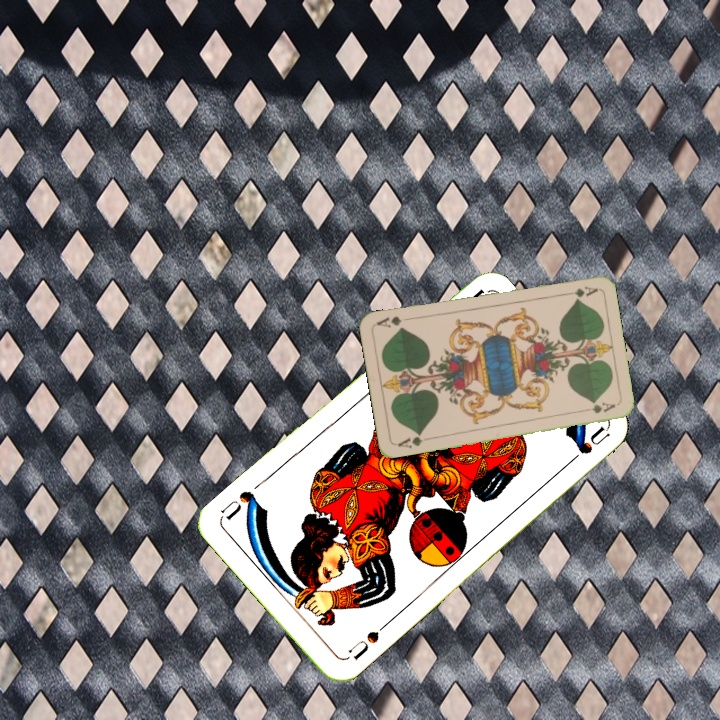GA: (393, 429, 433, 451), (559, 282, 600, 300)
SU: (342, 619, 390, 663)
